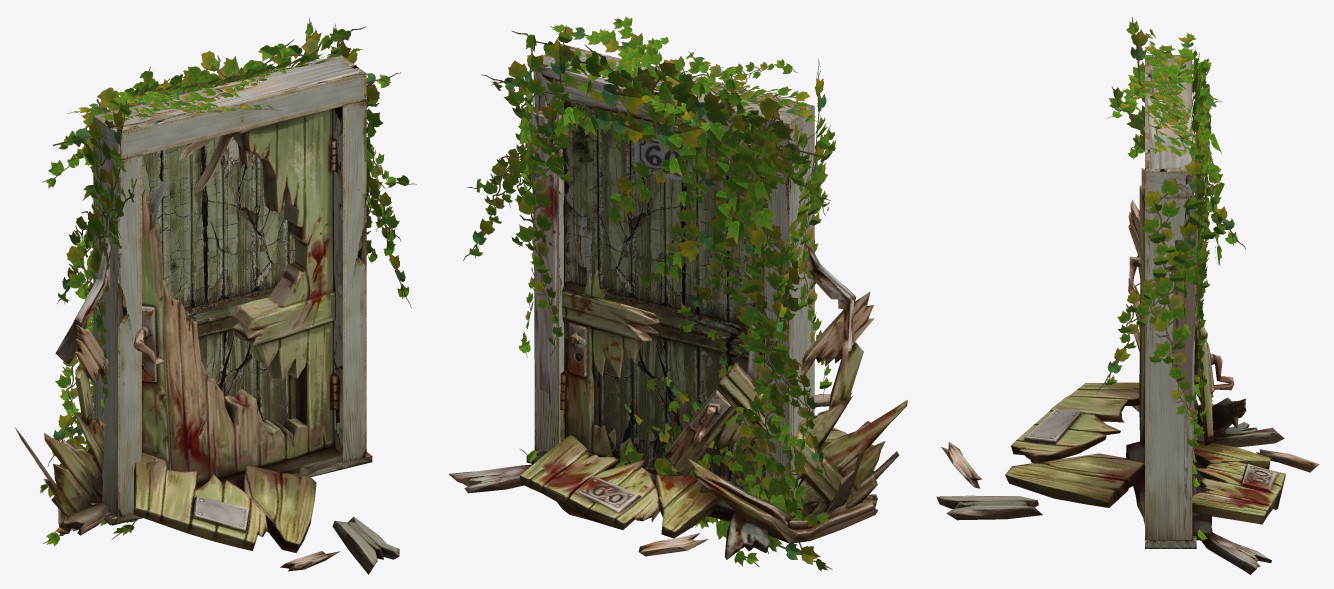
The model's file is P_Door_027_S1_M01_anim.obj.
The picture shows the model from 3 angles, left to right: view 1: azimuth 30°, elevation 25°; view 2: azimuth 150°, elevation 25°; view 3: azimuth 270°, elevation 25°; orthographic projection. The views are drawn at different scales.
Size of the model in its own units: 3.25 by 3.75 by 2.78.
18 materials, 18 textured.
